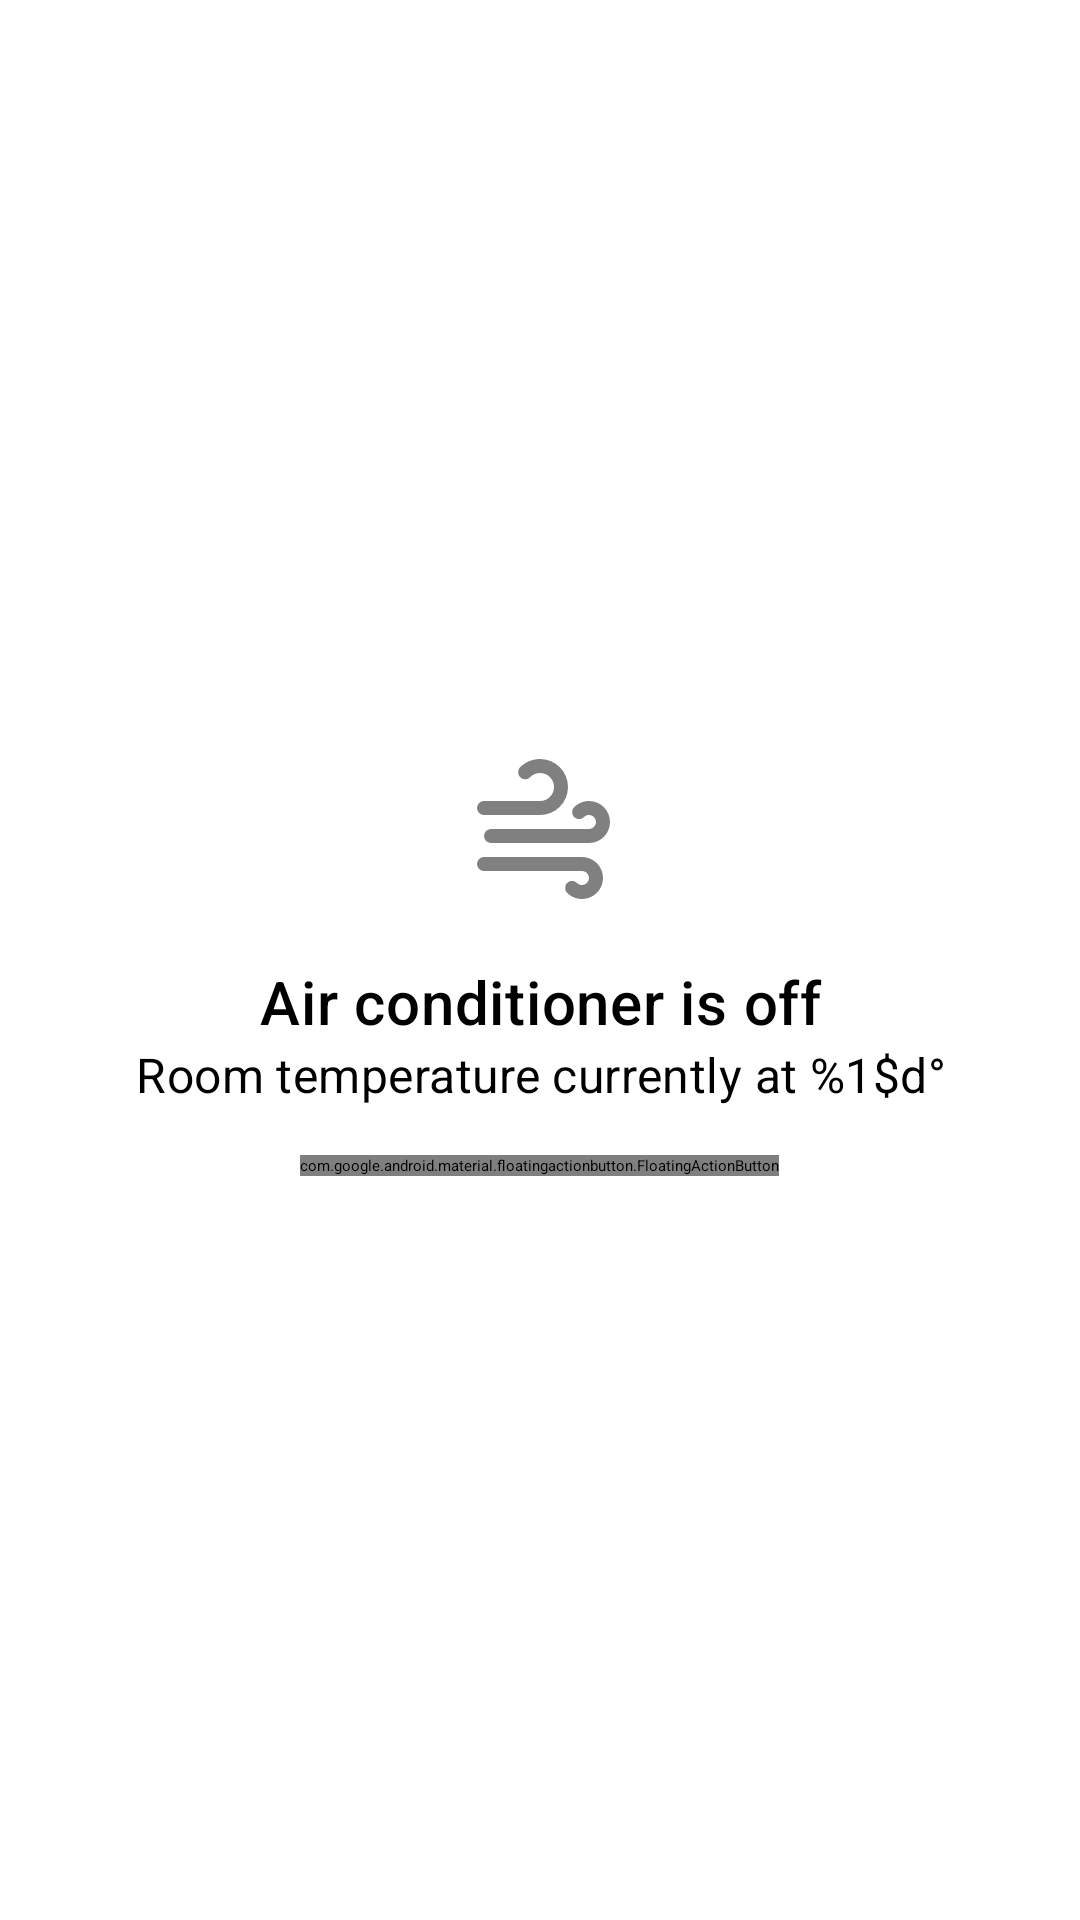

Named icons in this screenshot (1080x1920) and their centers, point (x, y):
weather windy: point (543, 829)
